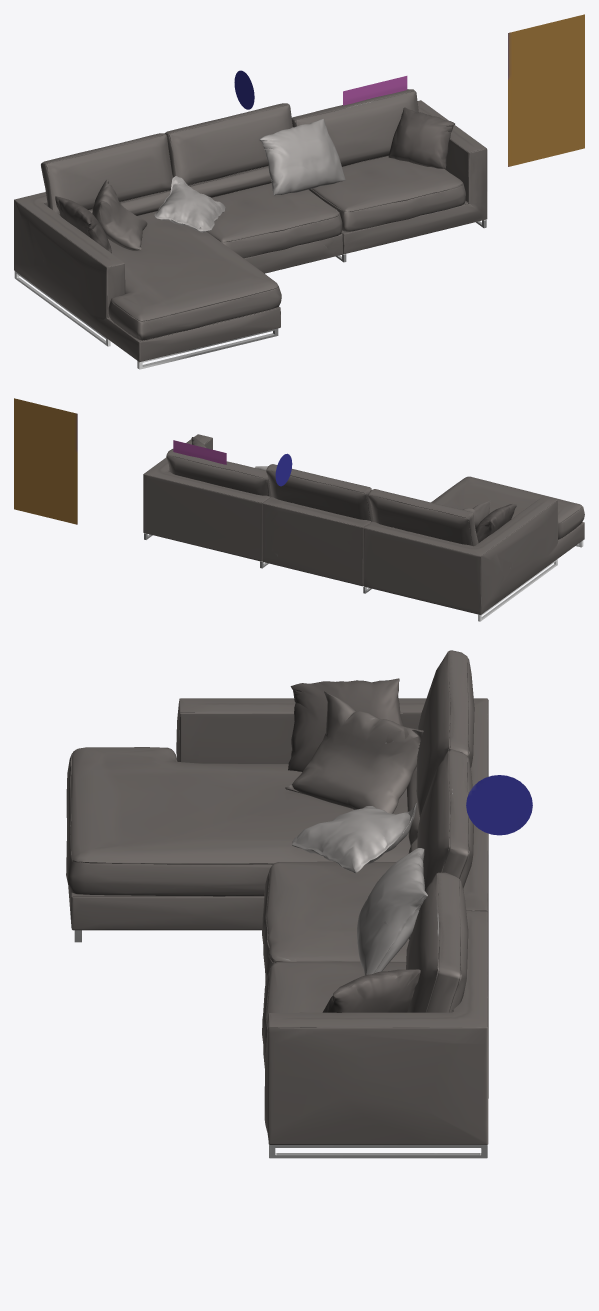
Rendered from raw_model.obj.
The picture shows the model from 3 angles, top to bottom: view 1: azimuth 30°, elevation 25°; view 2: azimuth 150°, elevation 25°; view 3: azimuth 270°, elevation 25°; orthographic projection. The views are drawn at different scales.
Visible parts, largest first — view 1: solid_004, solid_001, solid_006, solid_007, solid_005, solid_002, solid_003; view 2: solid_004, solid_001, solid_007, solid_002, solid_005, solid_003; view 3: solid_004, solid_006, solid_007, solid_003, solid_005.
Boxes of the visible parts, bbox=[...] form: solid_004: bbox=[14, 89, 487, 362]; solid_001: bbox=[508, 14, 584, 166]; solid_006: bbox=[154, 119, 345, 232]; solid_007: bbox=[55, 107, 454, 253]; solid_005: bbox=[14, 219, 486, 369]; solid_002: bbox=[343, 76, 407, 105]; solid_003: bbox=[234, 70, 254, 109]; solid_004: bbox=[143, 434, 584, 614]; solid_001: bbox=[14, 398, 77, 524]; solid_007: bbox=[191, 437, 516, 542]; solid_002: bbox=[173, 440, 226, 464]; solid_005: bbox=[144, 533, 583, 621]; solid_003: bbox=[275, 453, 292, 486]; solid_004: bbox=[66, 650, 488, 1144]; solid_006: bbox=[292, 803, 427, 975]; solid_007: bbox=[288, 678, 420, 1012]; solid_003: bbox=[466, 775, 532, 835]; solid_005: bbox=[74, 930, 487, 1158].
Bounding box in the file's own units: 4.45 × 1.14 × 1.9.
1 material, 1 textured.
